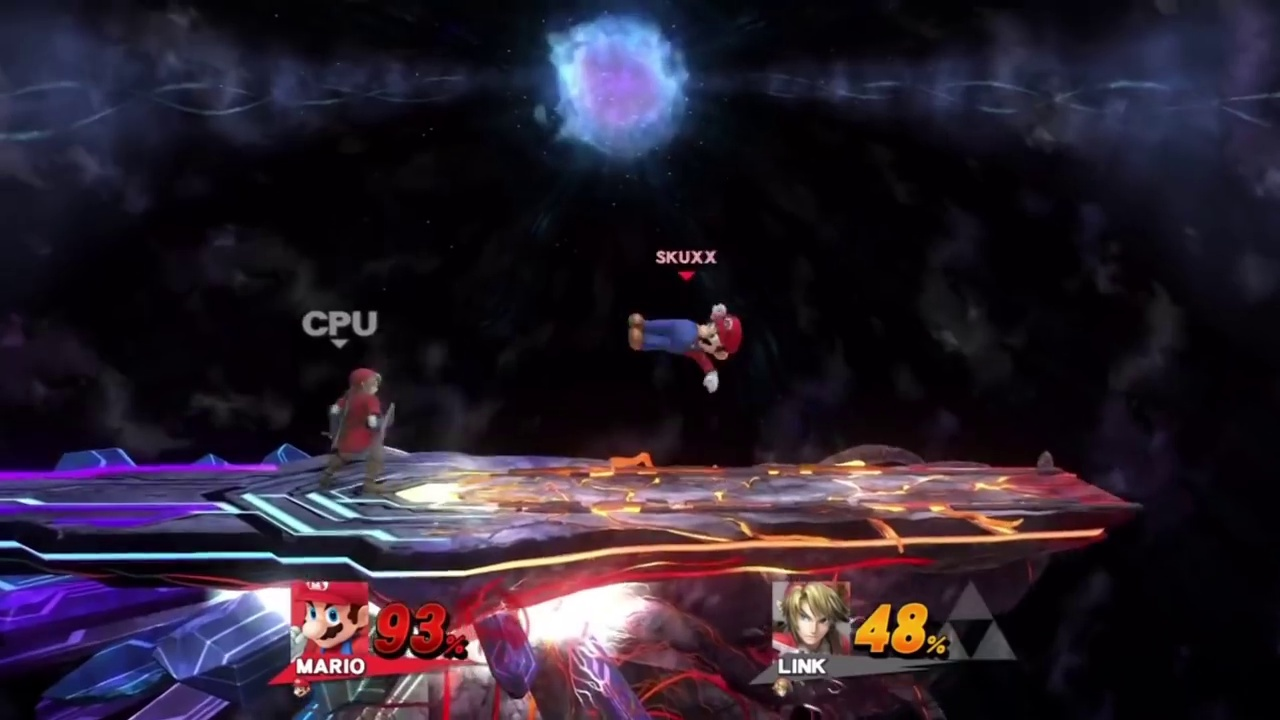Mario: (627, 302, 743, 392)
